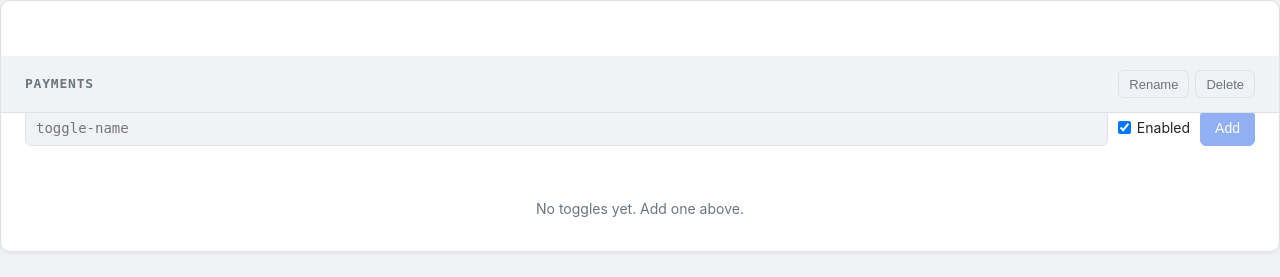
Scenario: GroupSection › clicking Cancel hides the rename input
Click the button "Rename" at (1154, 84), box [1118,70,1189,98]
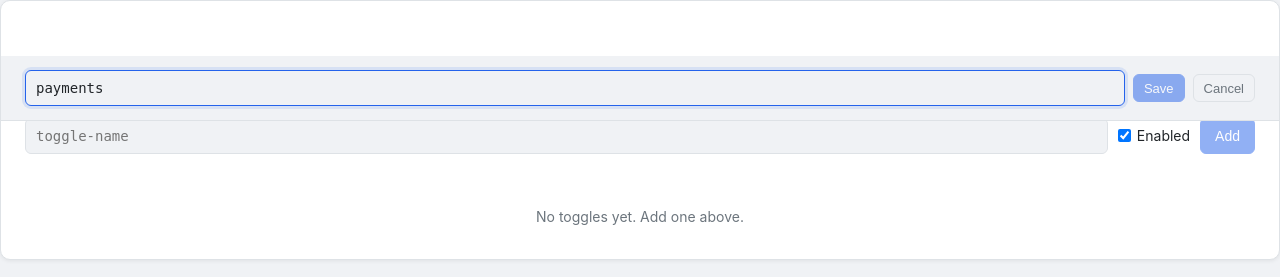
Click the button "Cancel" at (1224, 88), box [1192,74,1255,102]
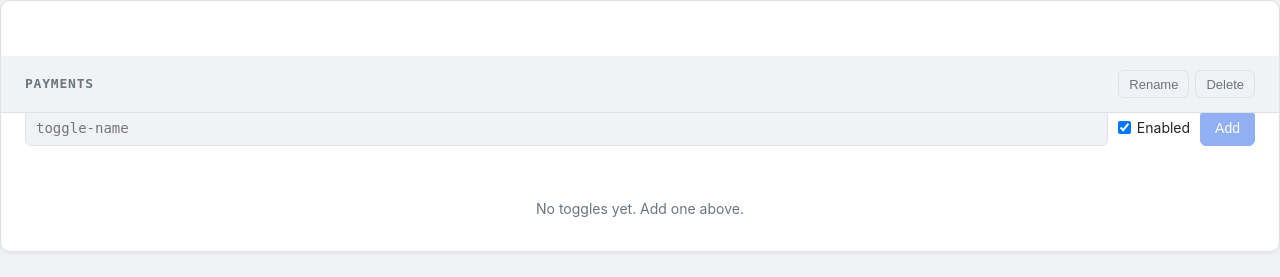
Expected: the field labelled "New group name" is not shown
Now the text "payments" is shown, box [25,74,94,94]
